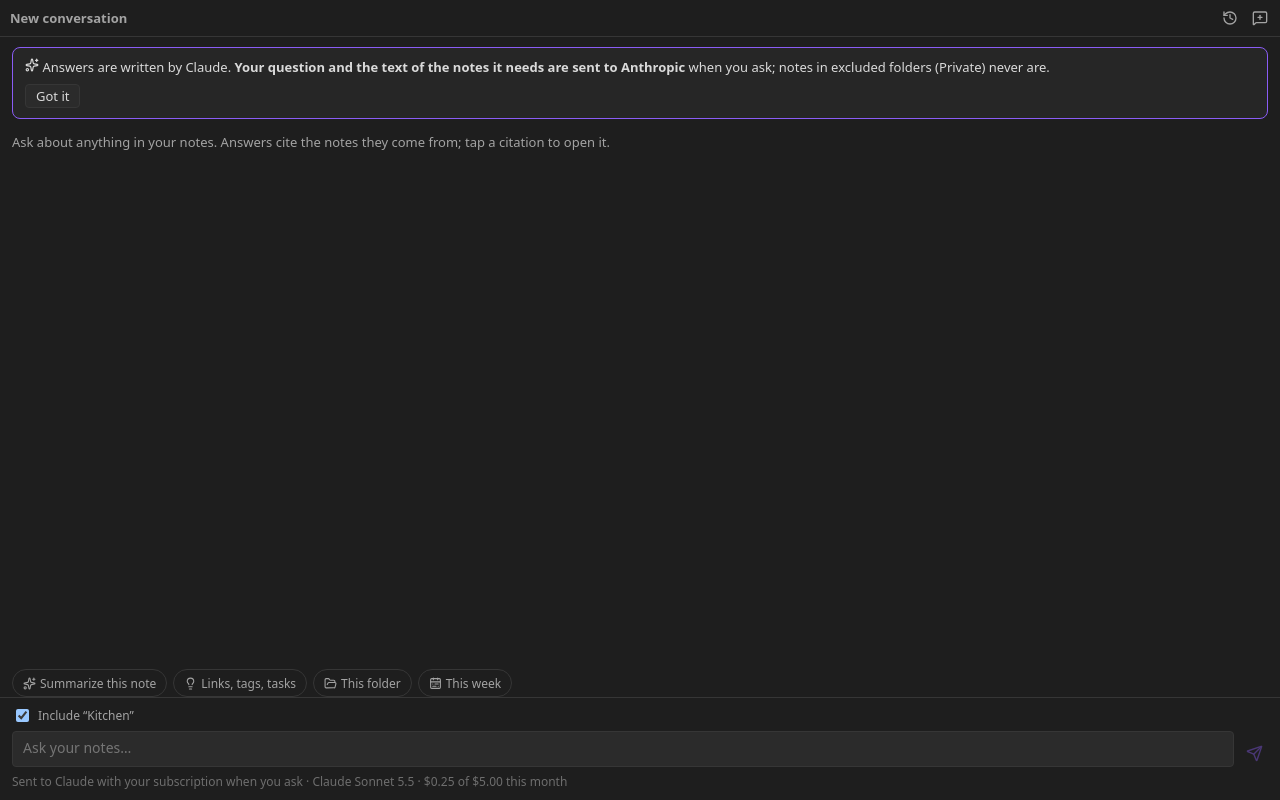
Test: AiChat (ROADMAP item 18) › warns once that notes are sent to Anthropic
The width and height of the screenshot is (1280, 800).
Expected: the text "sent to Anthropic" is shown, [234,58,685,76]
Click the button "Got it".
click(53, 96)  # box [25,84,80,108]
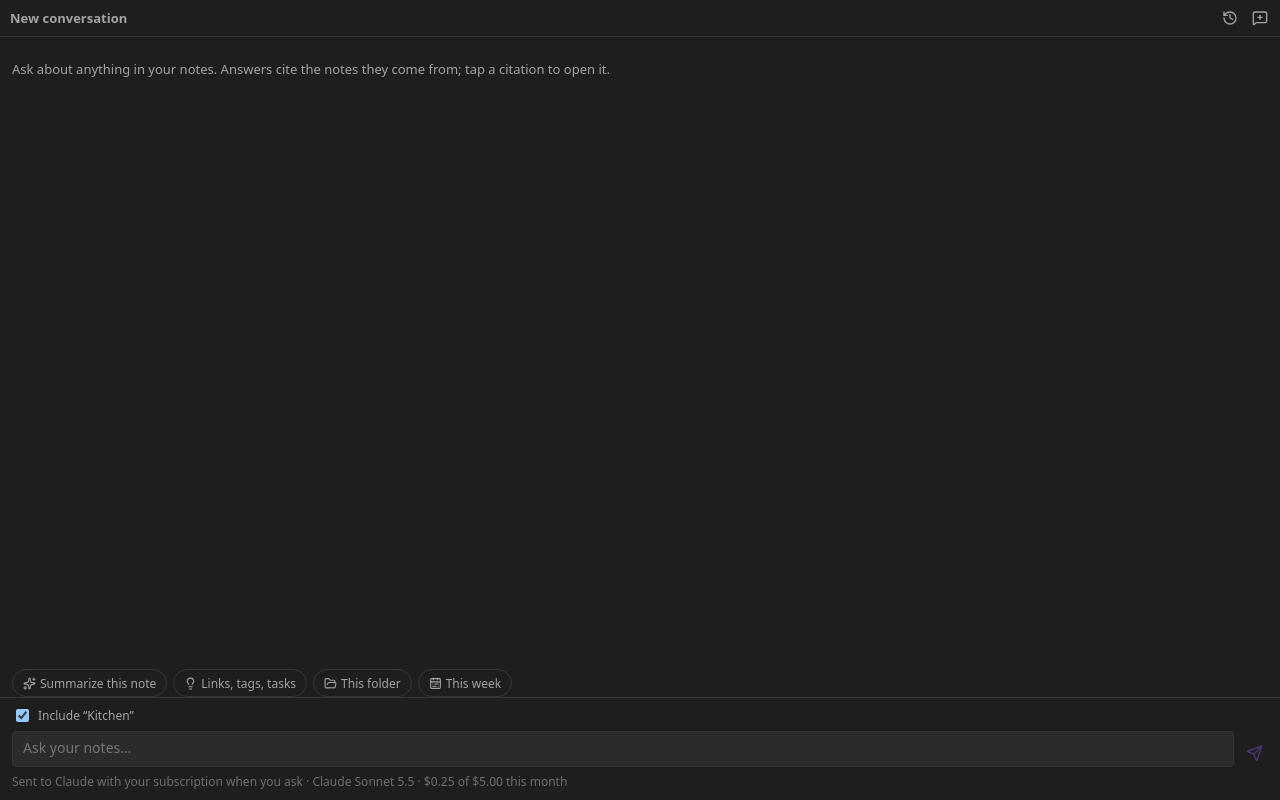
Now the button "Got it" is gone
